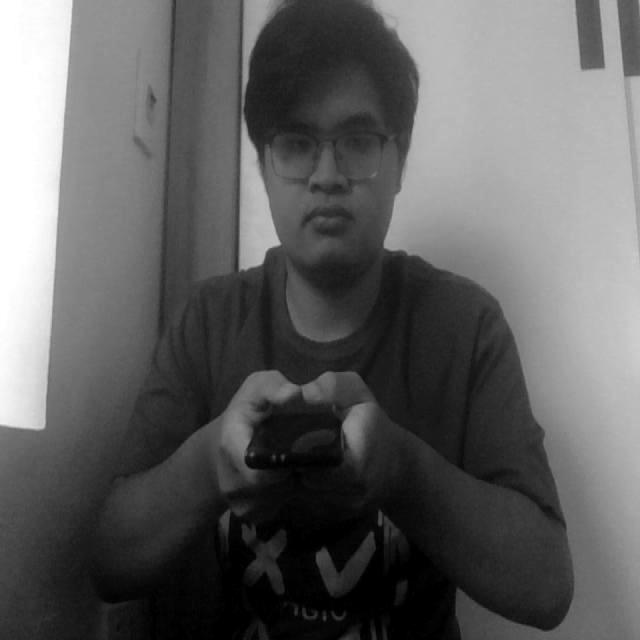phone: (240, 378, 368, 493)
